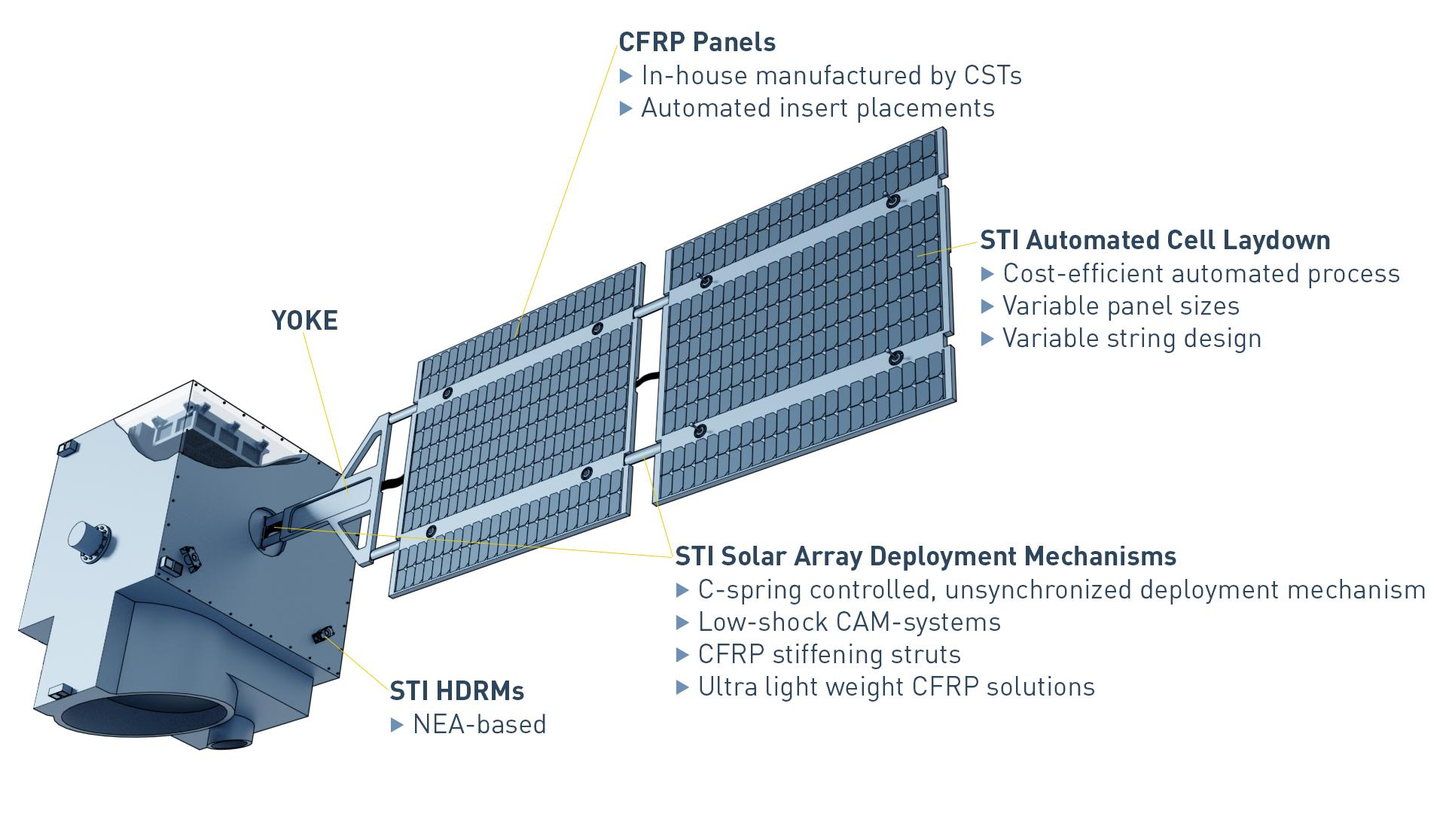body: (16, 376, 366, 754)
solar: (385, 123, 961, 602)
